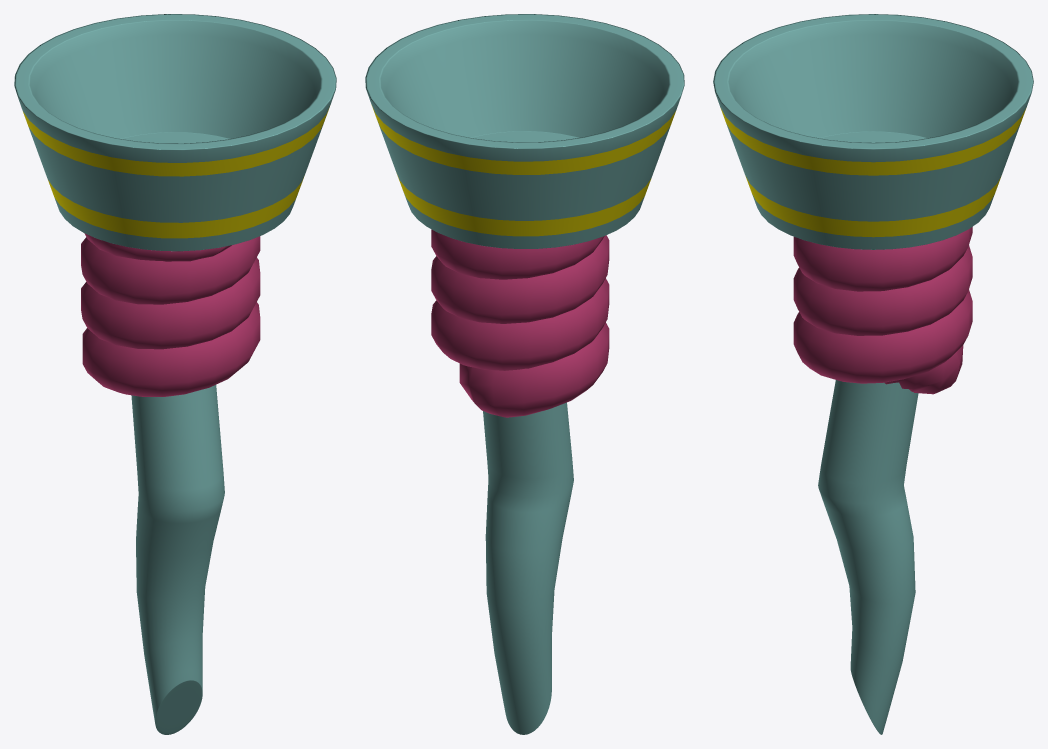
The model's file is Torch_model_low.fbx.
3 views of the same model, side by side, from view 1: azimuth 30°, elevation 25°; view 2: azimuth 150°, elevation 25°; view 3: azimuth 270°, elevation 25° (orthographic).
Parts seen in each view (by area): view 1: Torch_low, Rope_low; view 2: Torch_low, Rope_low; view 3: Torch_low, Rope_low.
Part boxes in pixels (bbox=[...]): Torch_low: bbox=[14, 14, 336, 734]; Rope_low: bbox=[81, 233, 260, 396]; Torch_low: bbox=[365, 14, 684, 734]; Rope_low: bbox=[431, 229, 609, 417]; Torch_low: bbox=[713, 14, 1033, 734]; Rope_low: bbox=[793, 227, 972, 394].
Bounding box in the file's own units: 2.46 × 5.51 × 2.46.
